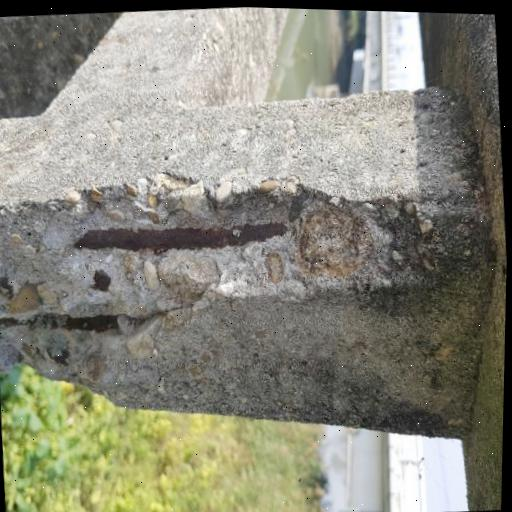exposed_rebar: (75, 223, 287, 251), (26, 314, 118, 332)
spalling: (0, 172, 448, 355)
